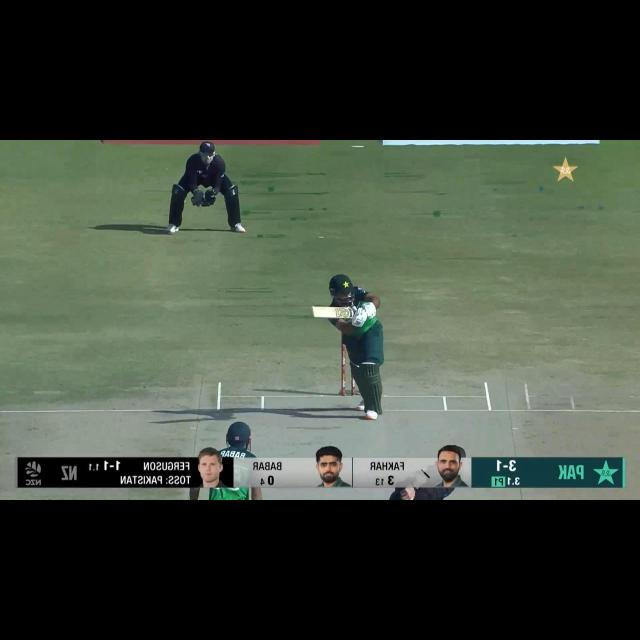bat: (312, 305, 358, 319)
toe: (310, 305, 321, 318)
